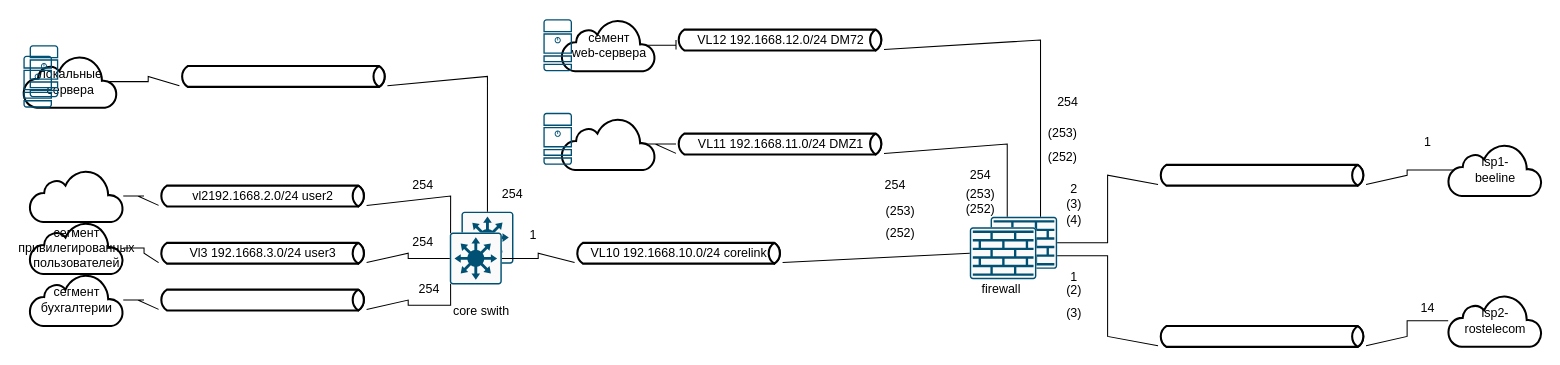
This 1560x365 diagram has some shape labels left out. The shapes that lost their labels are listed below. From the top down, each one's centre as x and y in pixels, then its label:
(283,75): Vl7 192.1668.7.0/24 SRV
(608,143): сегмент dns smtp
(1261,174): VL100 8.9.10.0/29 ISP1
(76,195): сегмент обычных пользователей
(262,299): VL4 192.1668.4.0/24 BUH
(1261,335): VL101 10.9.10.0/28 ISP22
